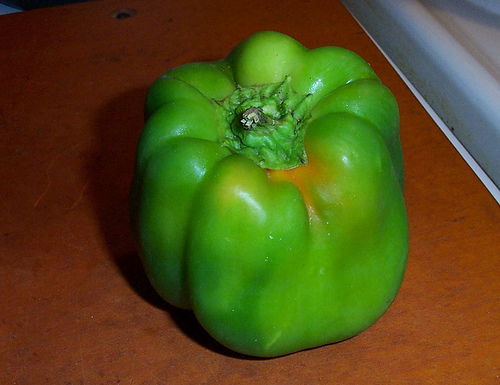capsicum: (125, 31, 410, 360)
